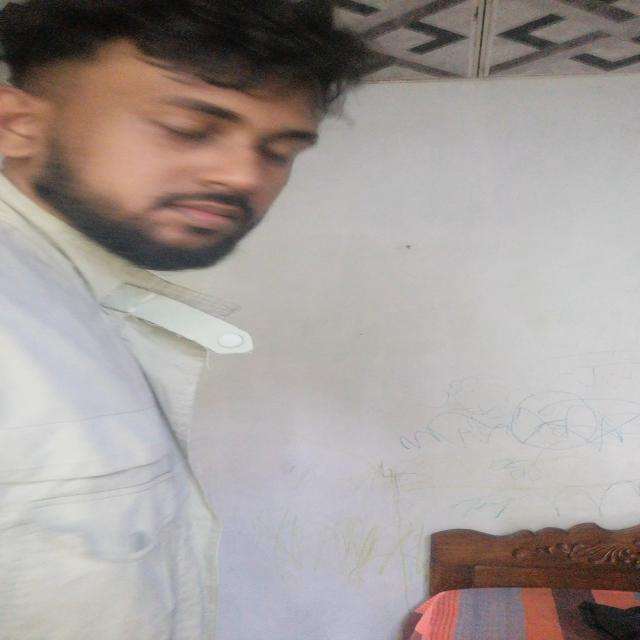Jacket_Wearer: (0, 179, 289, 613)
Person: (3, 0, 381, 607)
